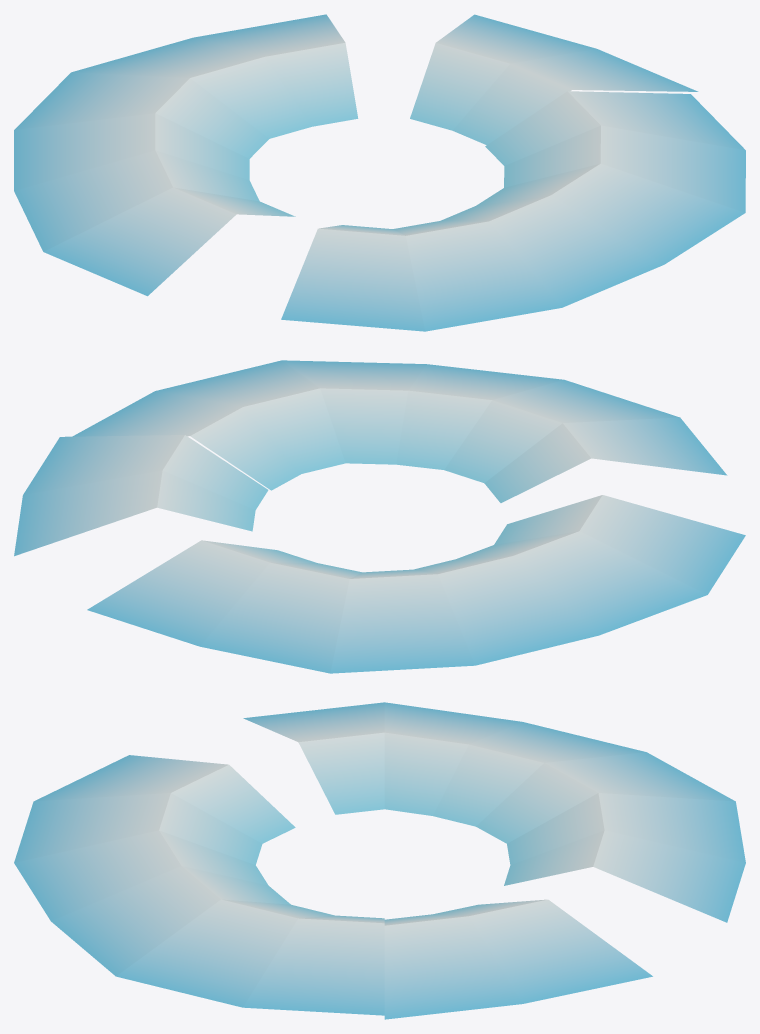
Rendered from SprayBuoyEntryRing.glb.
3 renders of one model, top to bottom at view 1: azimuth 30°, elevation 25°; view 2: azimuth 150°, elevation 25°; view 3: azimuth 270°, elevation 25°, orthographic.
Visible parts, largest first — view 1: SprayBuoyEntryRing; view 2: SprayBuoyEntryRing; view 3: SprayBuoyEntryRing.
Part boxes in pixels (x1,y1,x2,y2): SprayBuoyEntryRing: (14,14,745,331); SprayBuoyEntryRing: (14,360,745,673); SprayBuoyEntryRing: (14,702,745,1019).
Size of the model in its own units: 1.84 by 0.094 by 1.79.
